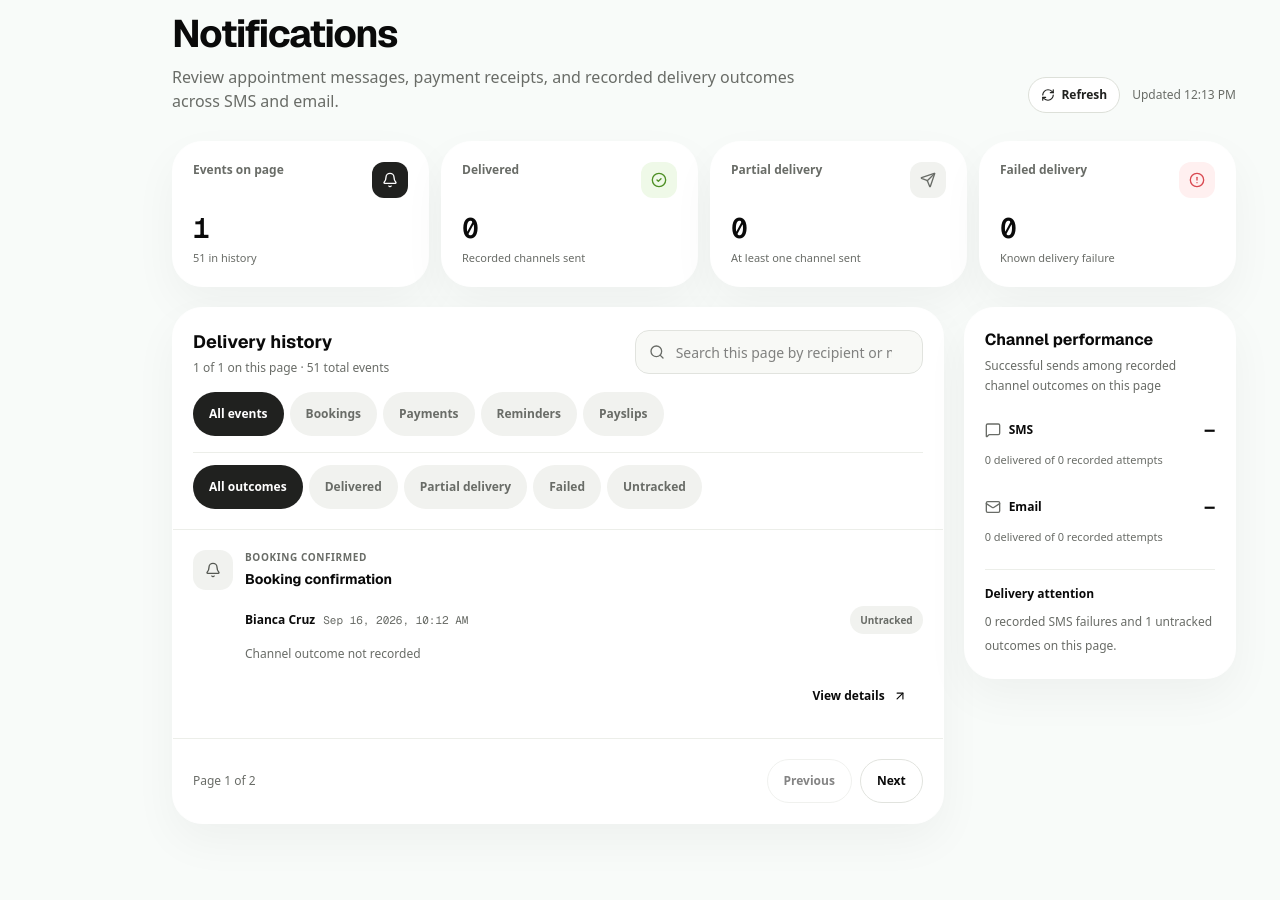
it: live Notifications preview cache and refresh (redesign=false) › loads each page under a separate cache key
(page scrolled)
Expected: the text "Bianca Cruz" is shown, [245,611,315,628]
Click the button "Next" at (891,781), box [860,759,923,803]
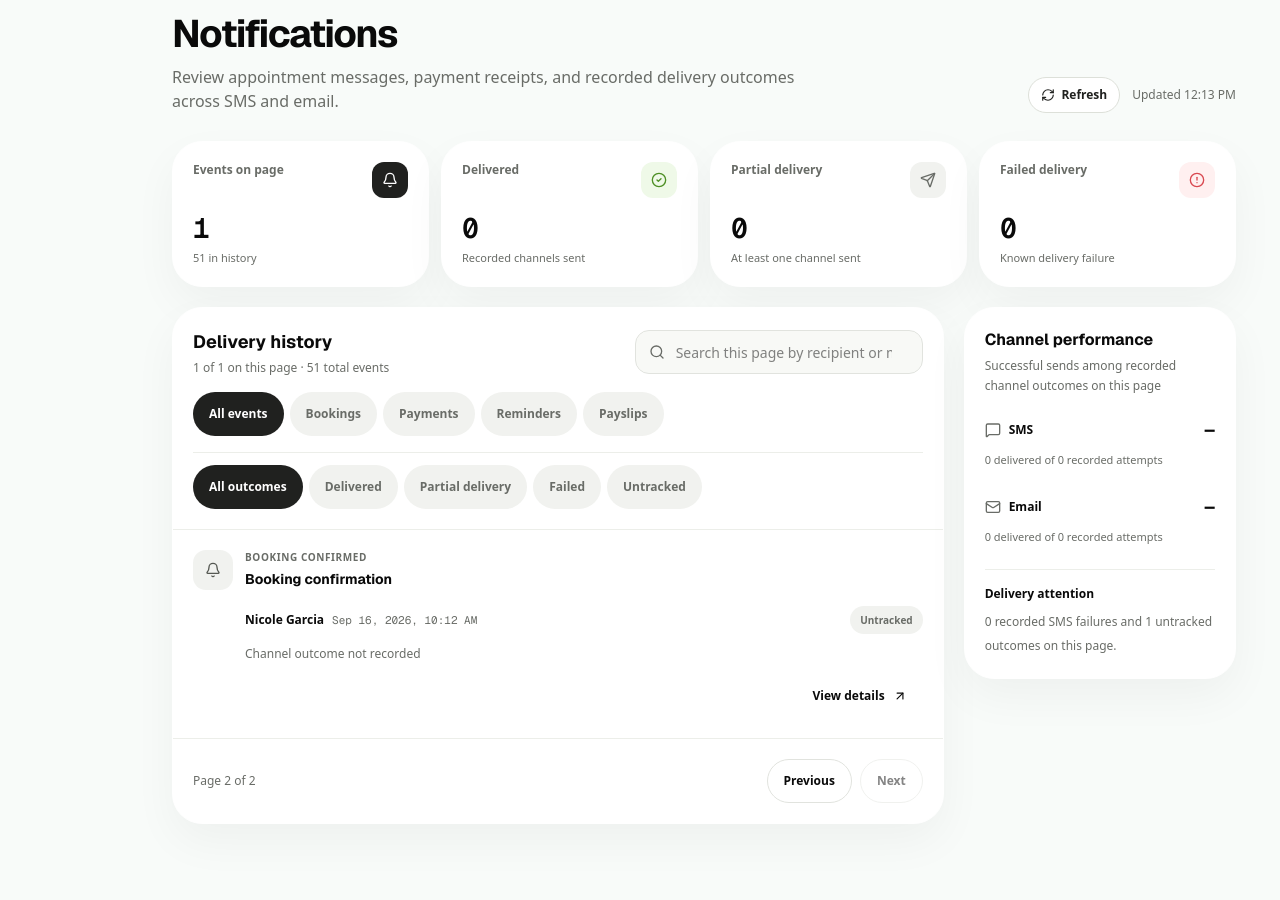
Expected: the text "Nicole Garcia" is shown, [245,611,324,628]
Expected: the text "Page 2 of 2" is shown, [193,773,256,789]
Click the button "Previous" at (809,781), box [766,759,852,803]
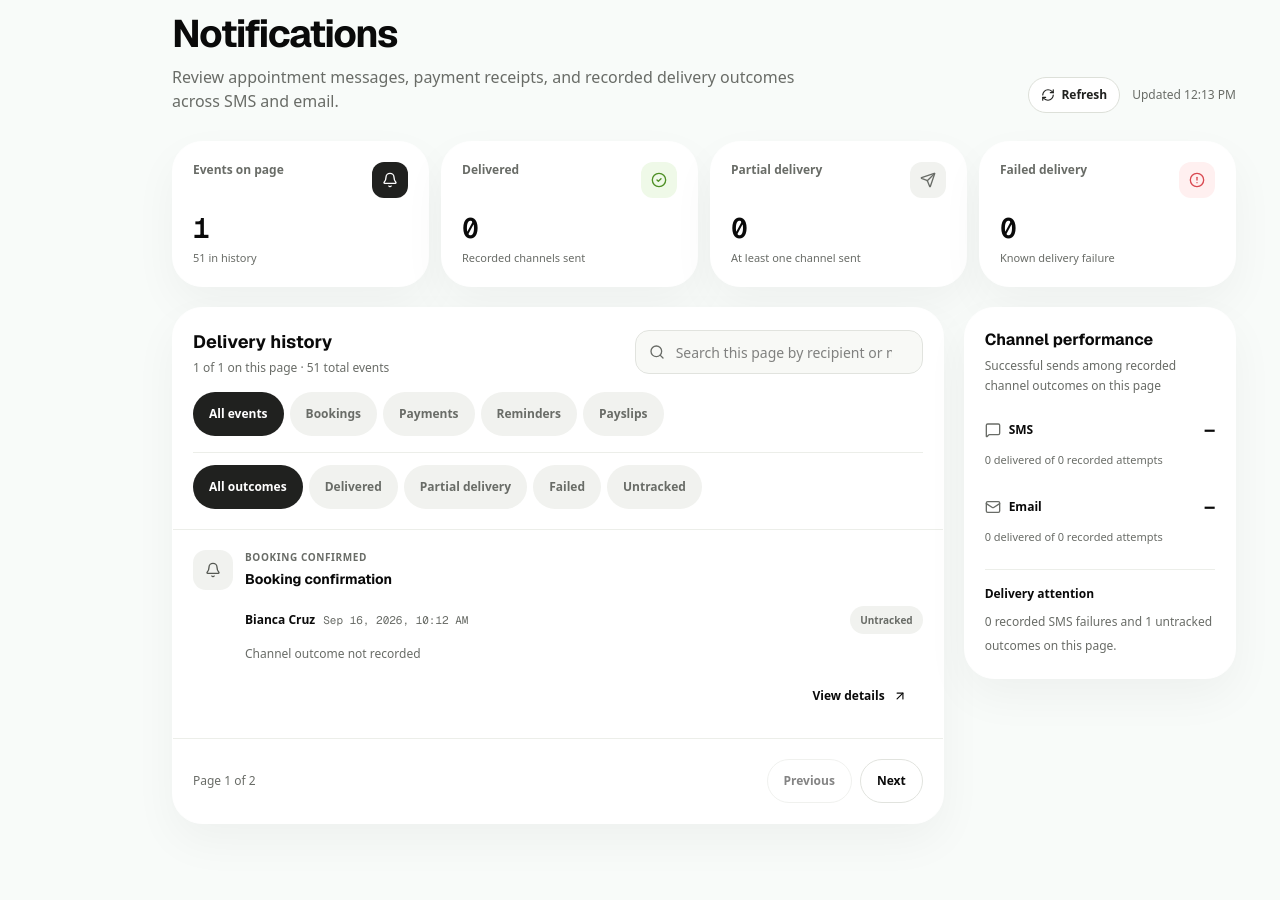
Expected: the text "Bianca Cruz" is shown, [245,611,315,628]
